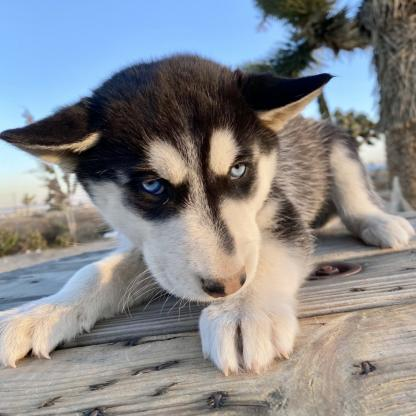dog: (0, 50, 409, 371)
